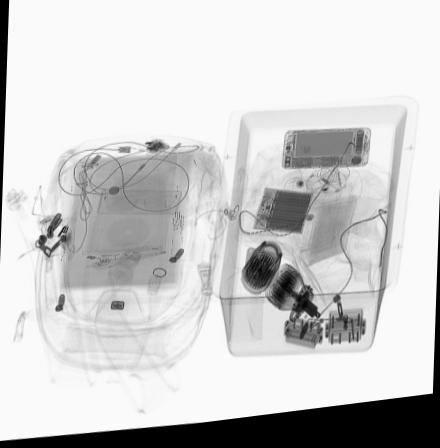Powerbank: (247, 193, 312, 240)
